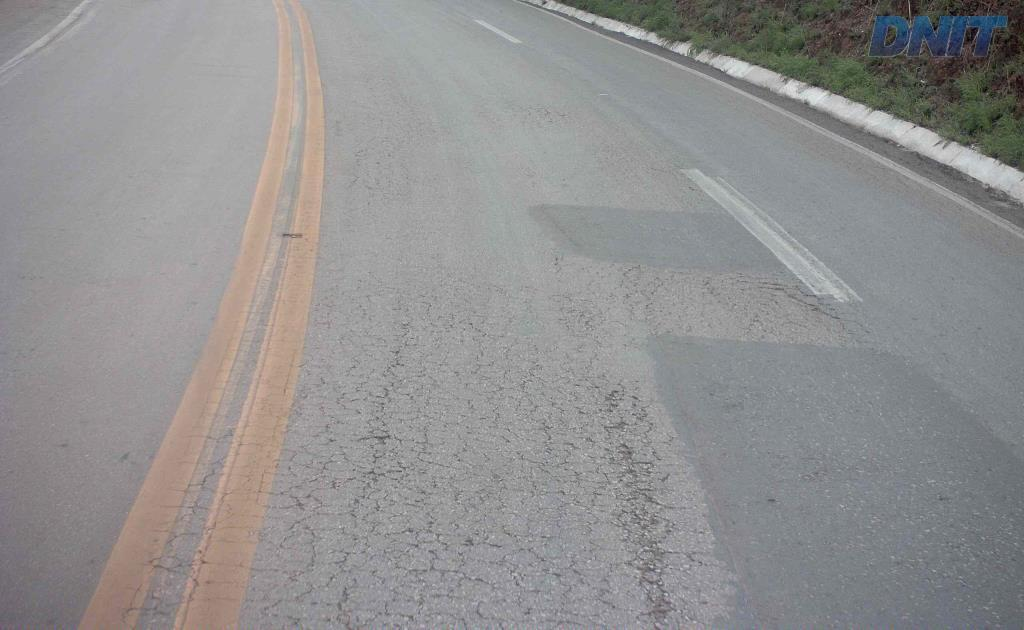crack: (604, 442, 678, 629), (757, 281, 821, 306)
